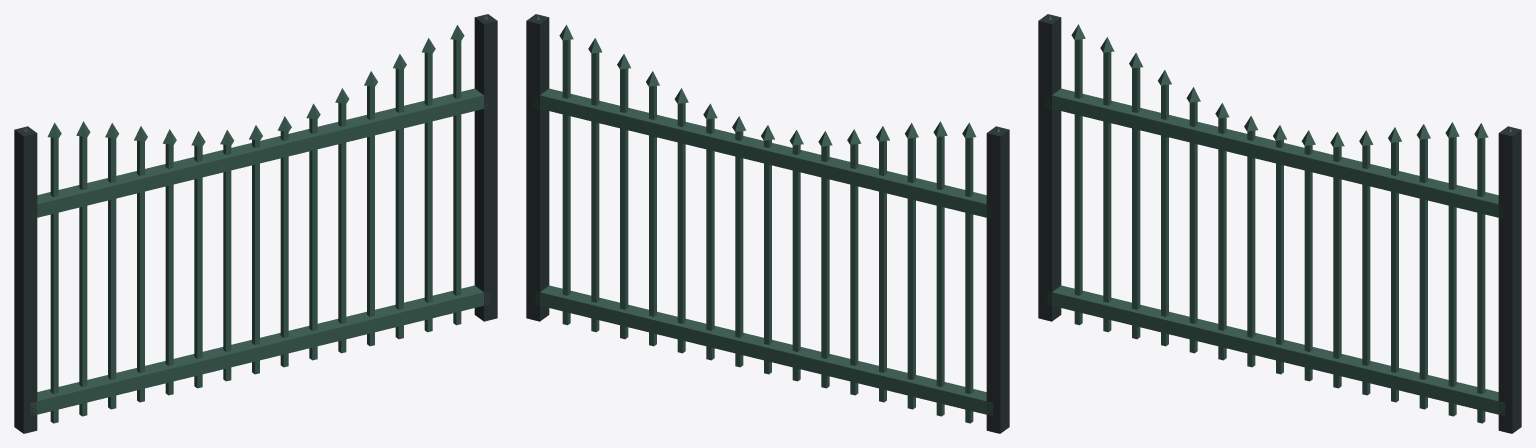
Rendered from school_gate.glb.
3 views of the same model, side by side, from view 1: azimuth 30°, elevation 25°; view 2: azimuth 150°, elevation 25°; view 3: azimuth 330°, elevation 25° (orthographic).
Visible parts, largest first — view 1: school_gate; view 2: school_gate; view 3: school_gate.
Part boxes in pixels (box(x1,y1,x2,y2)): school_gate: box(14, 14, 497, 433); school_gate: box(526, 14, 1009, 433); school_gate: box(1038, 14, 1521, 433).
Bounding box in the file's own units: 3.51 × 2.13 × 0.12.
